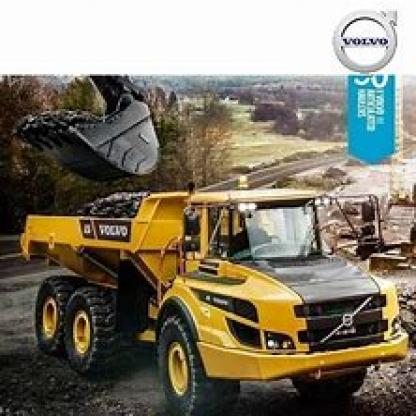dump_truck: (23, 178, 414, 401)
